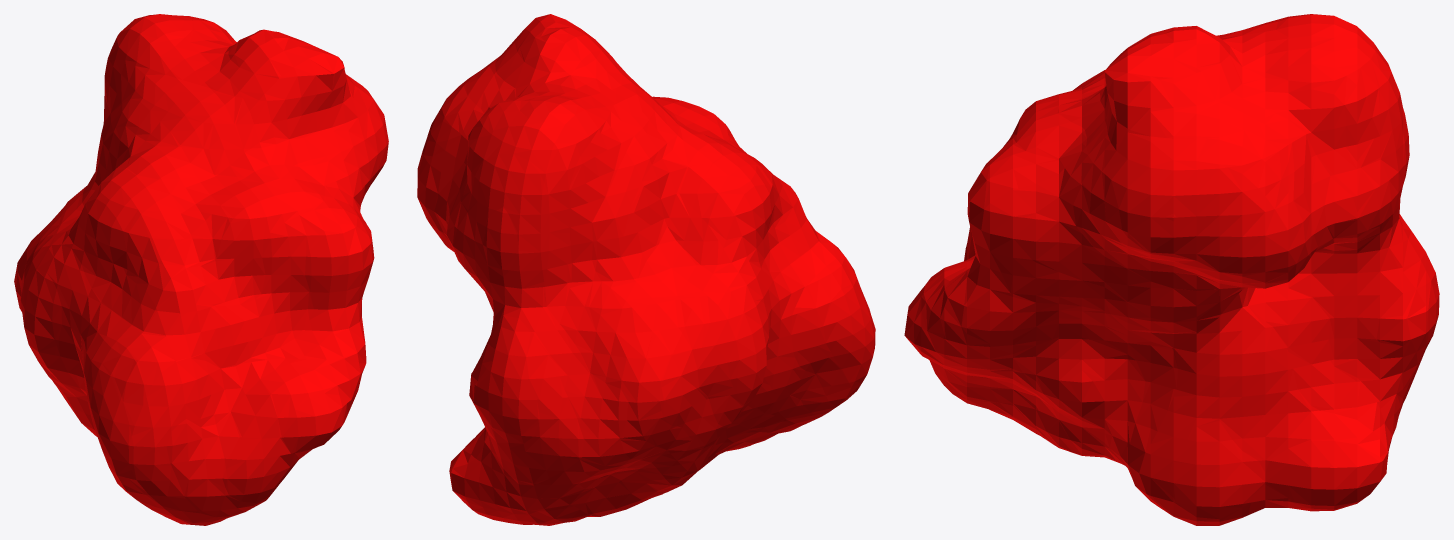
File: hisP_coarse.dae
3 renders of one model, left to right at view 1: azimuth 30°, elevation 25°; view 2: azimuth 150°, elevation 25°; view 3: azimuth 270°, elevation 25°, orthographic. The views are drawn at different scales.
Visible parts, largest first — view 1: hisP; view 2: hisP; view 3: hisP.
Part boxes in pixels (box(x1,y1,x2,y2)): hisP: box(14, 14, 388, 525); hisP: box(417, 14, 875, 525); hisP: box(904, 14, 1439, 525).
Size of the model in its own units: 46.04 by 56.5 by 54.7.
